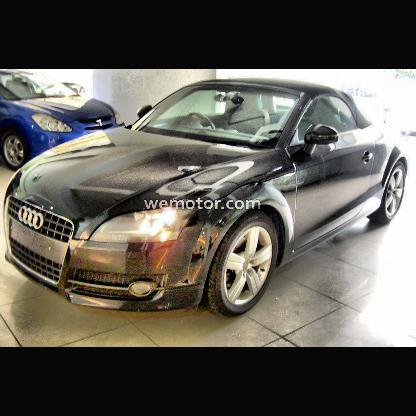Audi TTS Coupe 2012: (4, 80, 409, 318)
